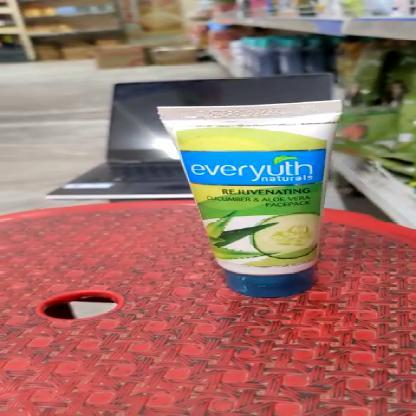EY RJ CUCUMBER ALOEVERA FACEPAK50G: (156, 106, 338, 296)
